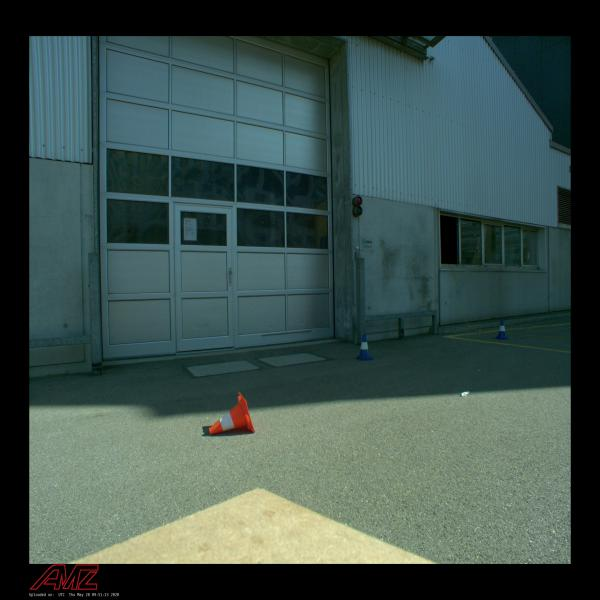blue_cone: (357, 334, 372, 361), (496, 320, 508, 340)
orange_cone: (209, 392, 255, 435)
